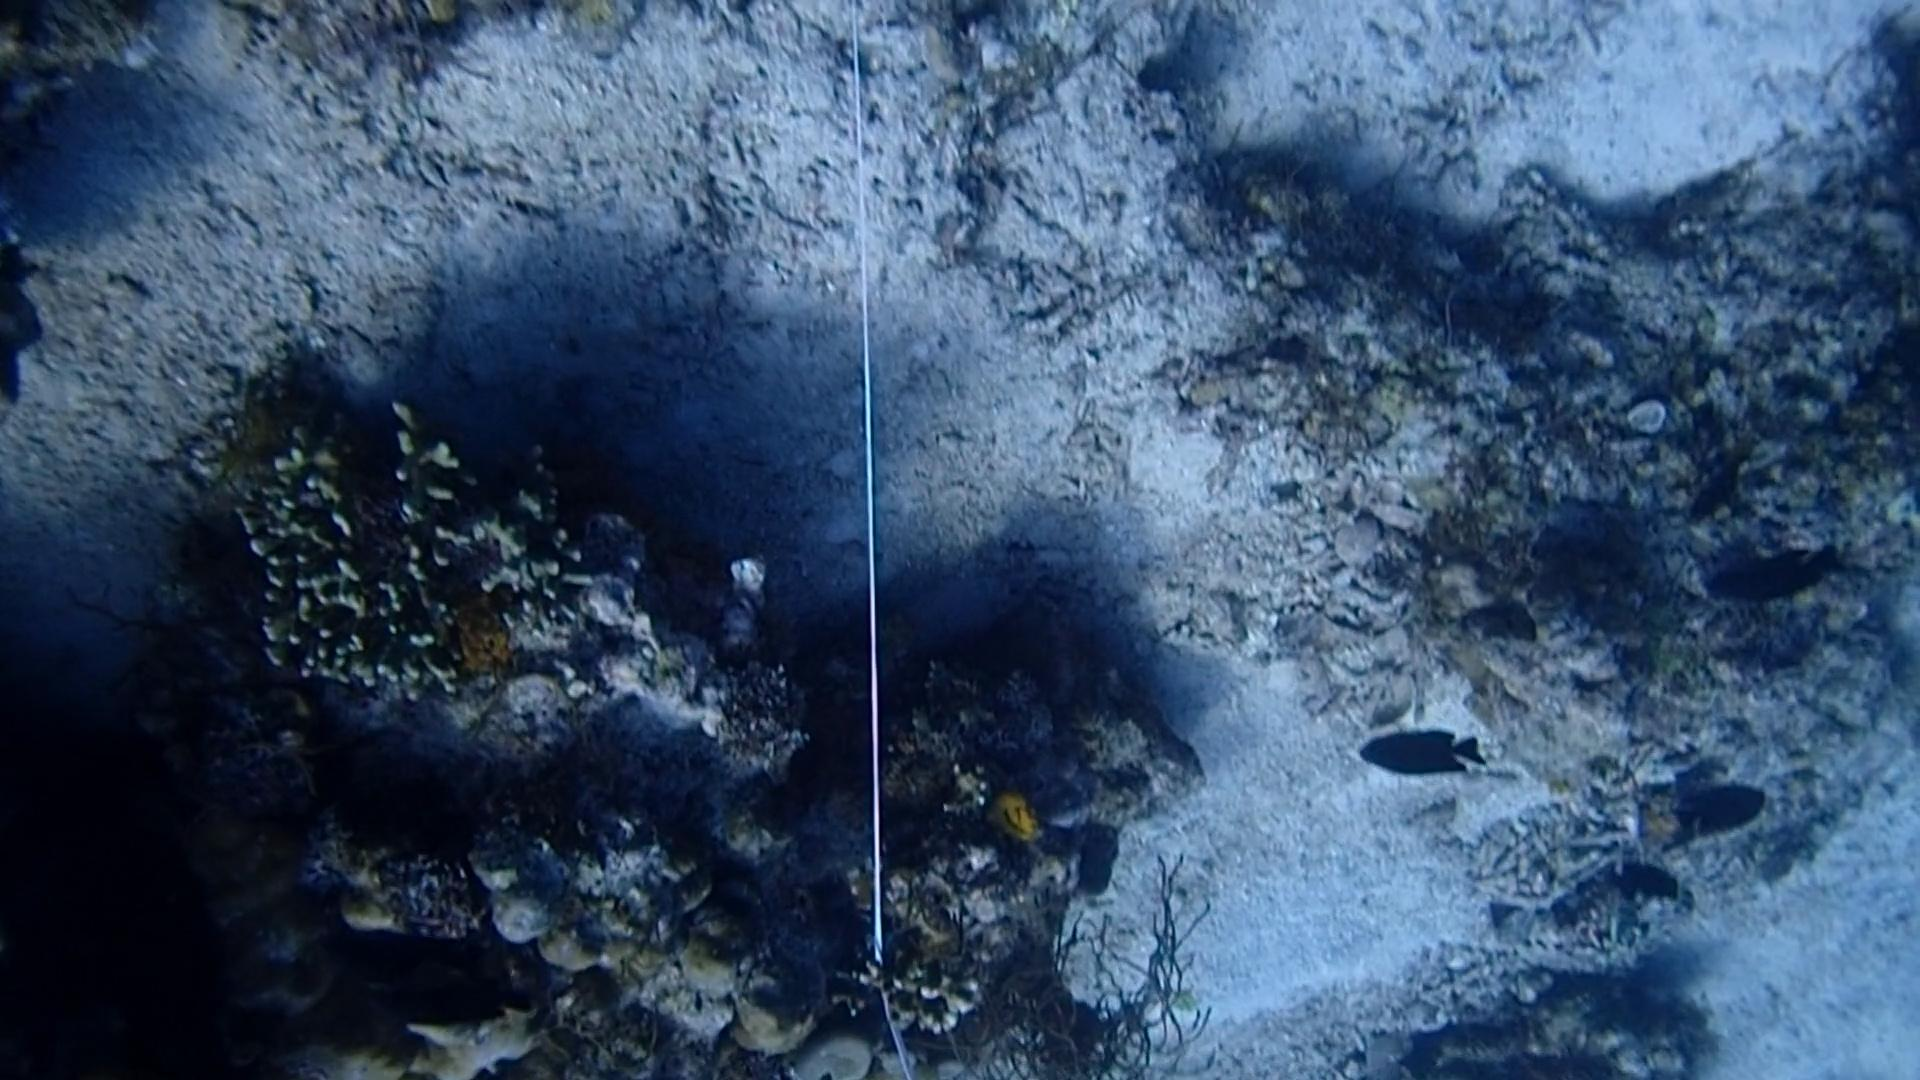Dark Fish: (1698, 531, 1849, 622), (1675, 426, 1770, 538), (1349, 715, 1485, 790), (1675, 769, 1776, 849), (1598, 858, 1709, 915)
